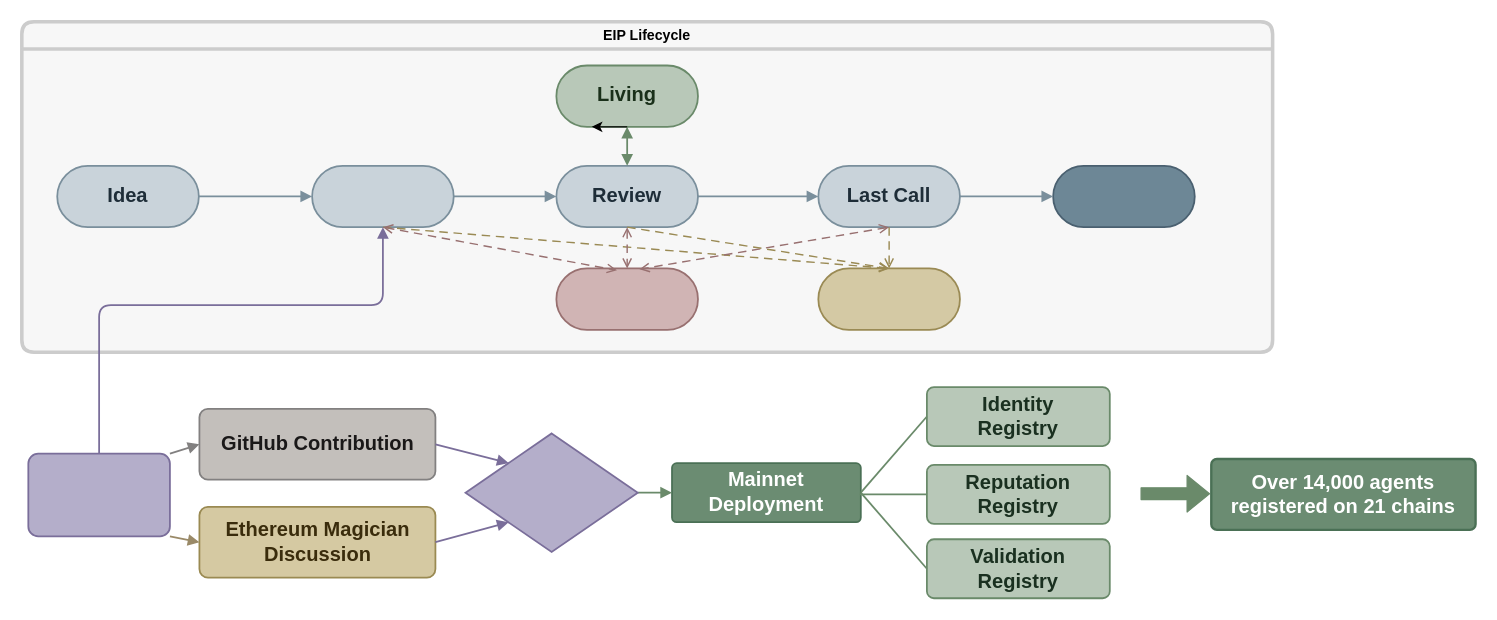
Image size: 1497x620. Some labels were removed from this diagram. Each missing label, with the box of its shape:
Draft: (311, 164, 454, 228)
ERC-8004: (27, 452, 170, 537)
Final: (1052, 164, 1195, 228)
Rough Consenus: (464, 432, 638, 552)
Stagnant: (817, 267, 960, 330)
Withdrawn: (555, 267, 698, 330)
